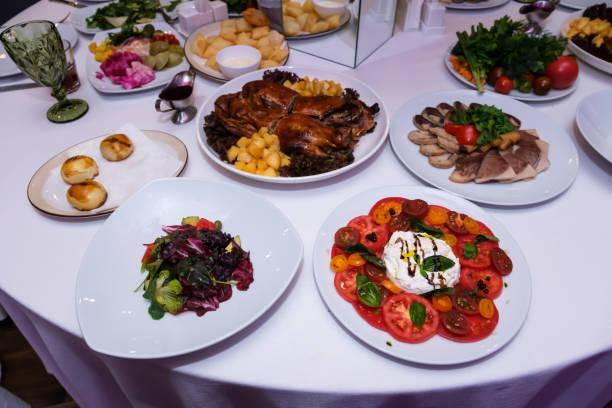Braised Crucian Carp: (74, 178, 299, 359), (310, 185, 528, 368), (387, 88, 577, 207), (194, 65, 382, 184), (28, 127, 186, 218), (444, 26, 582, 102)
